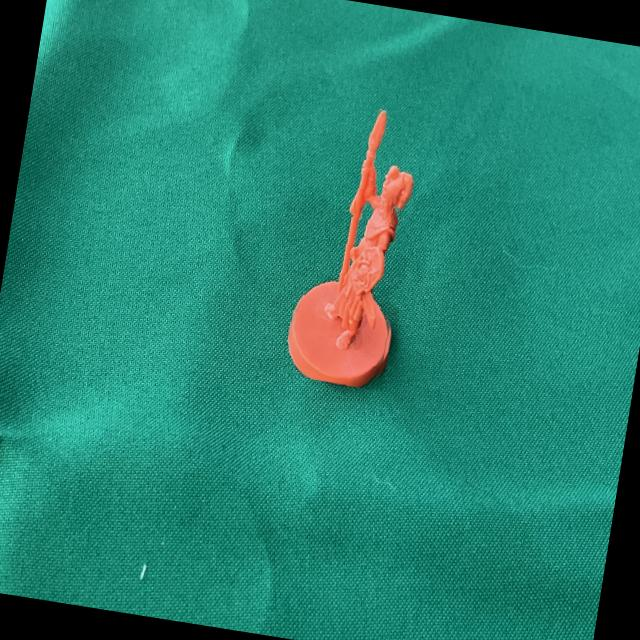amon_follower: (287, 111, 414, 388)
